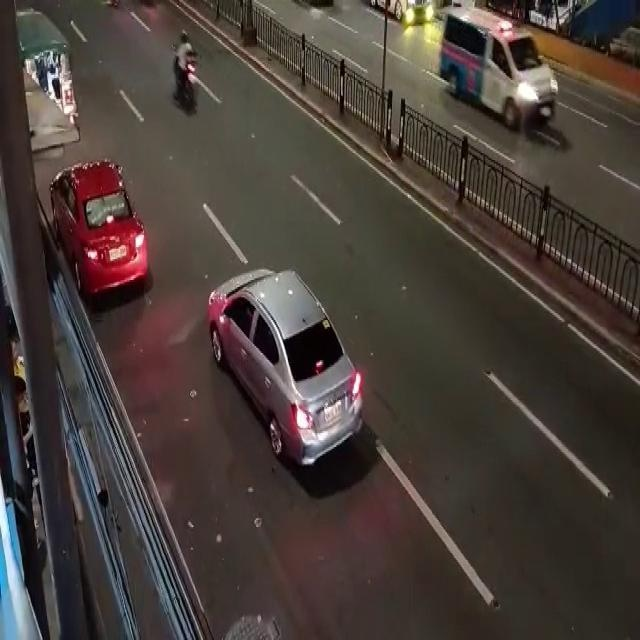car: (196, 264, 369, 466), (52, 148, 144, 317), (440, 20, 559, 126)
motorcycle: (165, 23, 201, 118)
